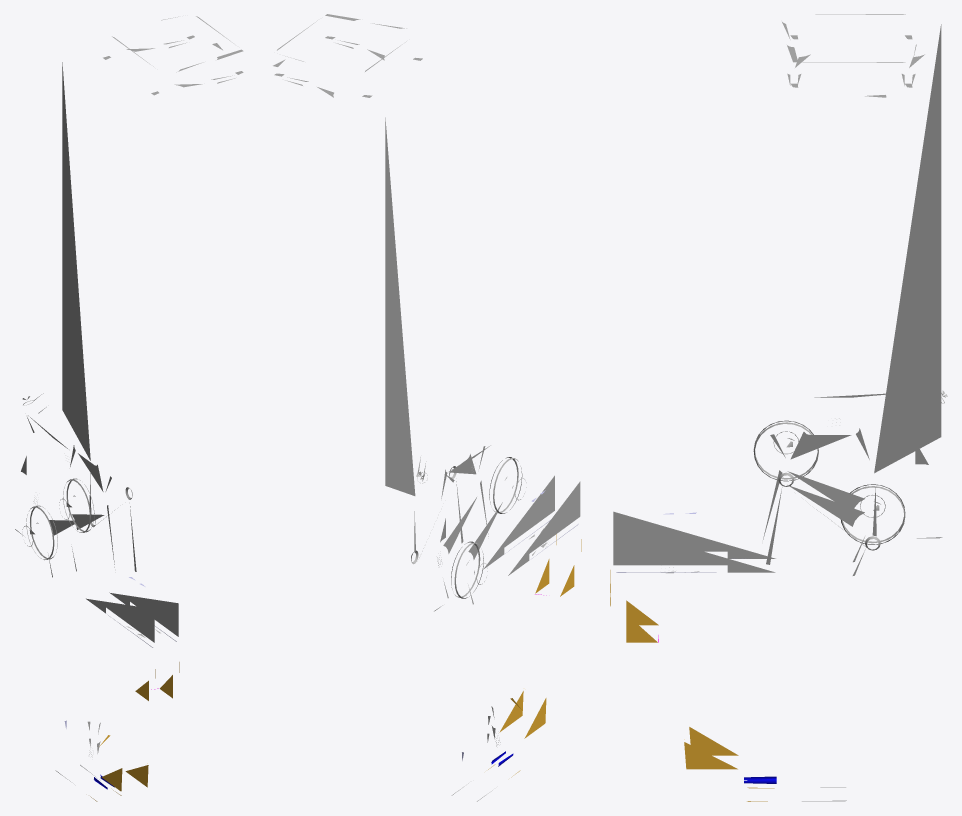
The picture shows the model from 3 angles, left to right: view 1: azimuth 30°, elevation 25°; view 2: azimuth 150°, elevation 25°; view 3: azimuth 270°, elevation 25°; orthographic projection. The views are drawn at different scales.
Visible parts, largest first — view 1: F19721000063102000136_001_zb_ub_auflage_36_fa (×3); view 2: F19721000063102000136_001_zb_ub_auflage_36_fa (×3); view 3: F19721000063102000136_001_zb_ub_auflage_36_fa (×3).
Part boxes in pixels (<box>): F19721000063102000136_001_zb_ub_auflage_36_fa (×3): <box>15,16,243,801</box>; F19721000063102000136_001_zb_ub_auflage_36_fa (×3): <box>273,14,581,801</box>; F19721000063102000136_001_zb_ub_auflage_36_fa (×3): <box>610,14,947,801</box>.
Size of the model in its own units: 163 by 207 by 555.
